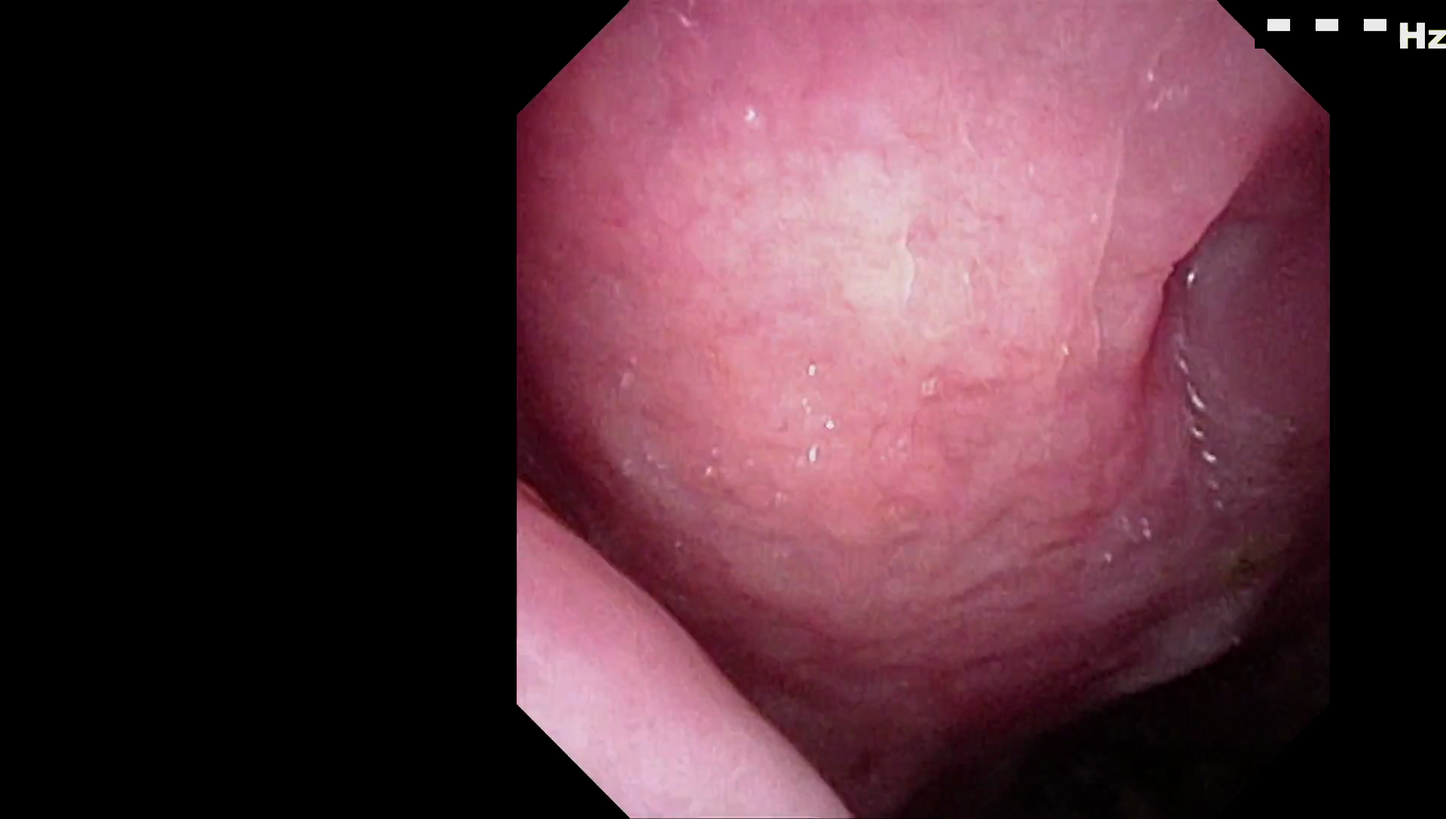close_wall: (603, 78, 1178, 525)
next: (856, 642, 1229, 819)
